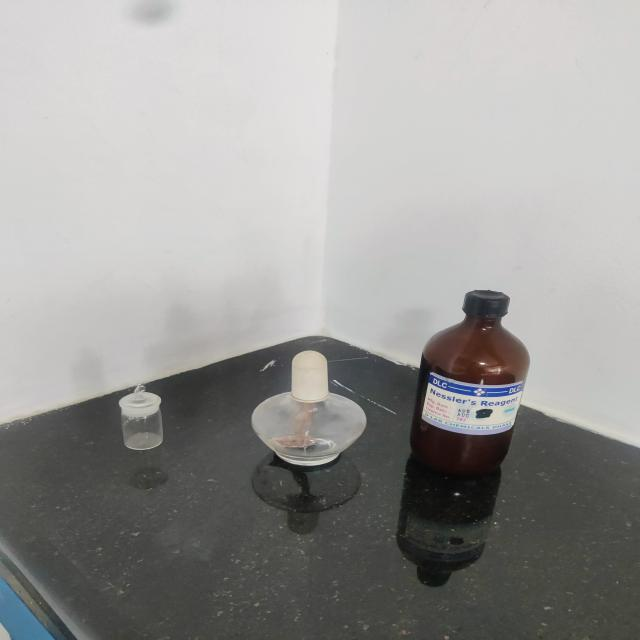Nessler_Reagent_Bottle: (379, 274, 557, 475)
Spirit_Lamp: (242, 342, 368, 482)
Weighing_Bottle: (109, 370, 179, 467)
